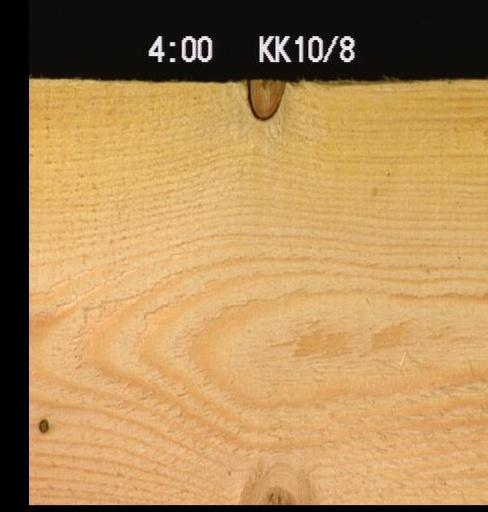dry_knot: (35, 414, 50, 435)
edge_knot: (235, 469, 319, 504), (243, 78, 285, 121)
